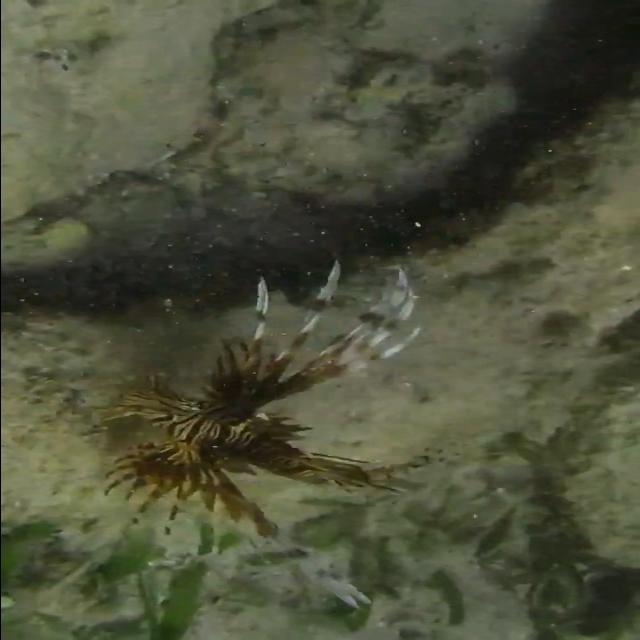Aslan Baligi: (88, 259, 431, 539)
